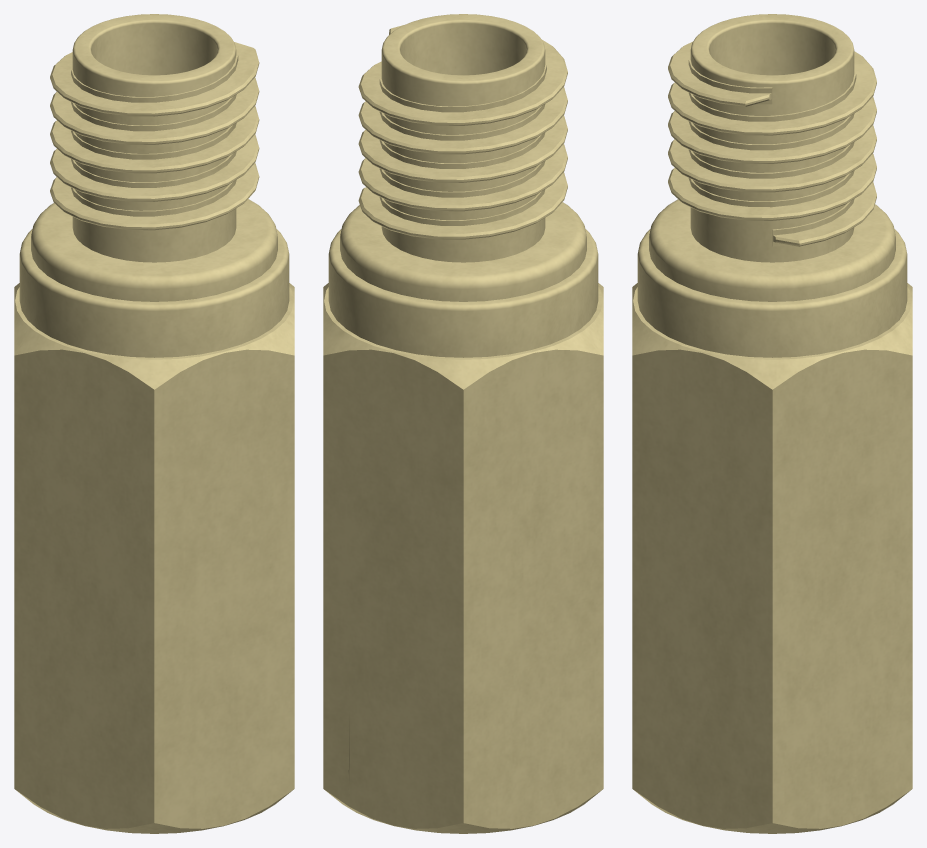
File: mainJet.glb
3 views of the same model, side by side, from view 1: azimuth 30°, elevation 25°; view 2: azimuth 150°, elevation 25°; view 3: azimuth 270°, elevation 25° (orthographic).
Visible parts, largest first — view 1: mainJet; view 2: mainJet; view 3: mainJet.
Part boxes in pixels (x1,y1,x2,y2): mainJet: (14, 14, 294, 833); mainJet: (323, 14, 603, 833); mainJet: (632, 14, 912, 833).
Size of the model in its own units: 0.2646 by 0.6555 by 0.2292.
Materials: 1 (1 with a texture image).
